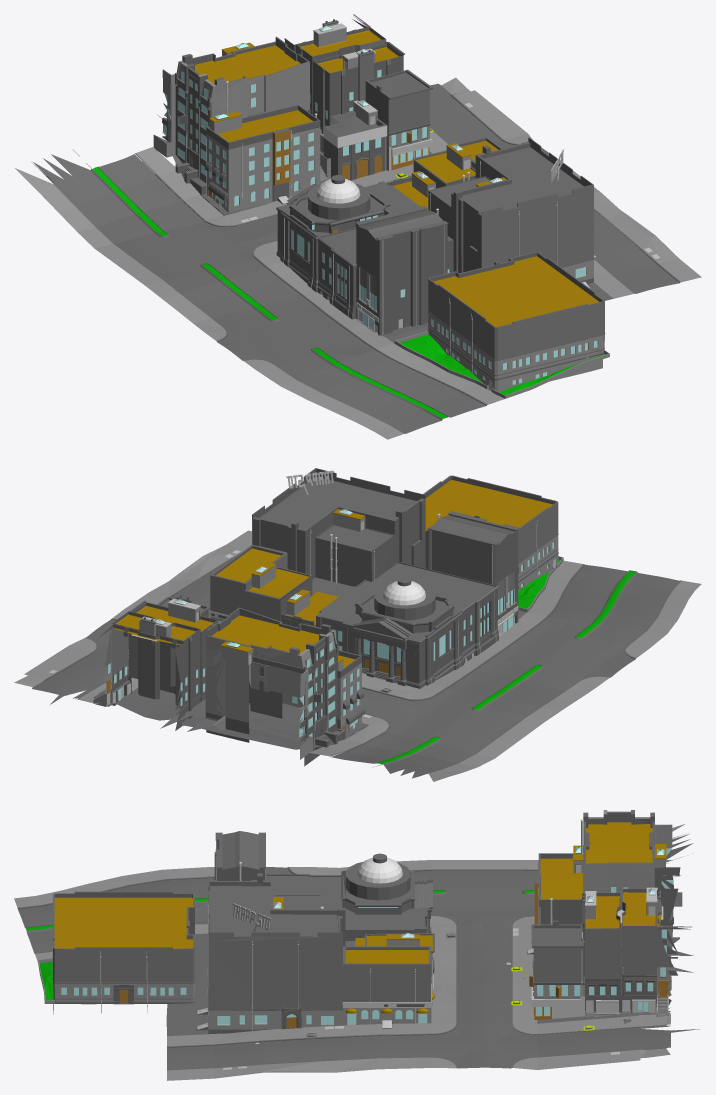
The model's file is brook_s2_9.FBX.
The picture shows the model from 3 angles, top to bottom: view 1: azimuth 30°, elevation 25°; view 2: azimuth 150°, elevation 25°; view 3: azimuth 270°, elevation 25°; orthographic projection. The views are drawn at different scales.
Visible parts, largest first — view 1: unnamed, null; view 2: unnamed, null; view 3: unnamed, null.
Part boxes in pixels (x1,y1,x2,y2): unnamed: (15,14,701,439); null: (173,27,475,253); unnamed: (14,468,701,781); null: (145,569,454,766); unnamed: (14,824,699,1080); null: (341,810,693,1003).
Size of the model in its own units: 120 by 34.7 by 156.
